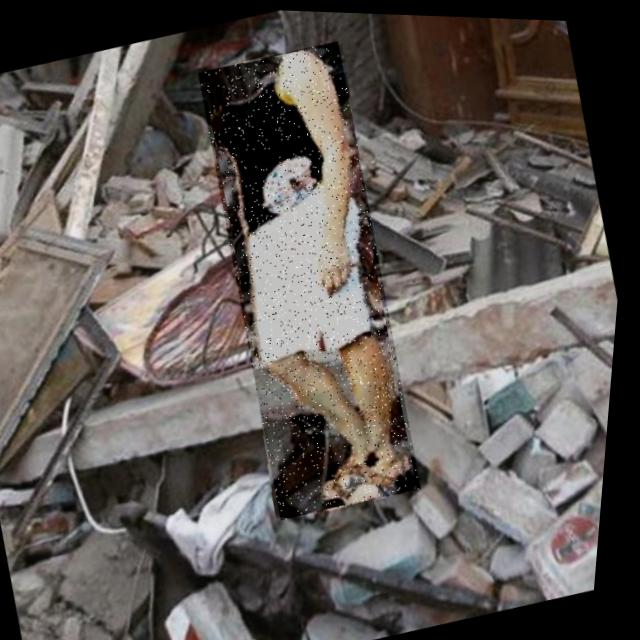Person in Rubble: (170, 34, 457, 521)
